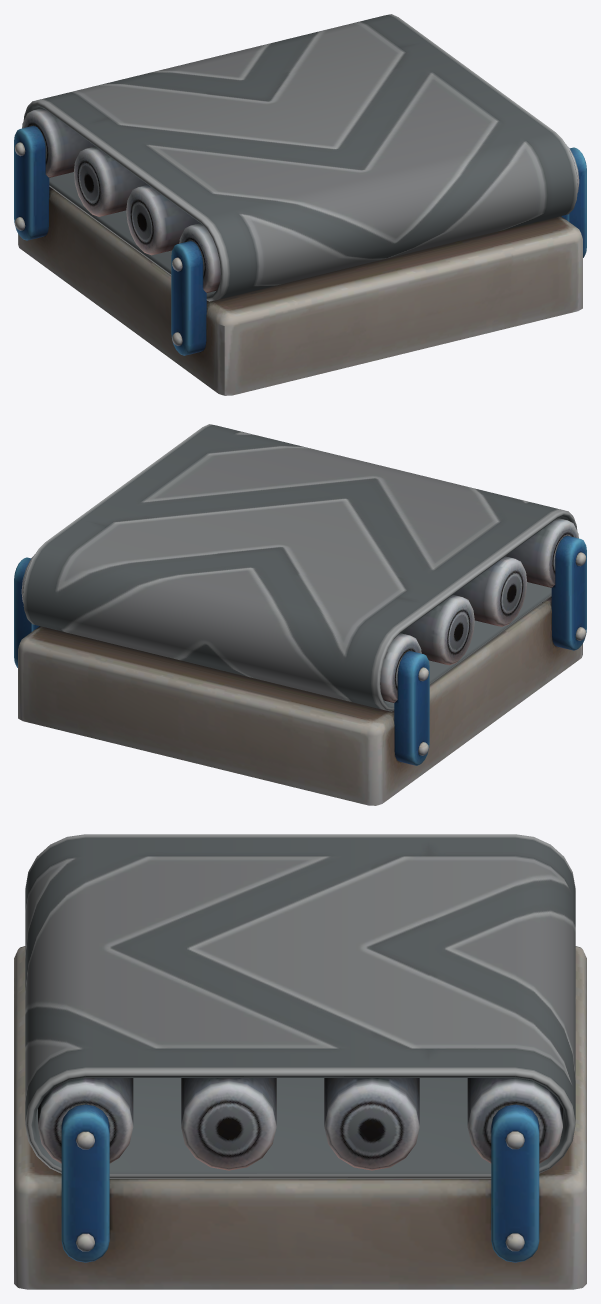
File: Conveyor.fbx
The picture shows the model from 3 angles, top to bottom: view 1: azimuth 30°, elevation 25°; view 2: azimuth 150°, elevation 25°; view 3: azimuth 270°, elevation 25°; orthographic projection. The views are drawn at different scales.
Parts seen in each view (by area): view 1: m_sk_conveyor_belt_01; view 2: m_sk_conveyor_belt_01; view 3: m_sk_conveyor_belt_01.
Part boxes in pixels (bbox=[...]): m_sk_conveyor_belt_01: bbox=[14, 14, 586, 395]; m_sk_conveyor_belt_01: bbox=[14, 424, 586, 805]; m_sk_conveyor_belt_01: bbox=[14, 834, 586, 1289].
Size of the model in its own units: 136 by 50.1 by 120.
